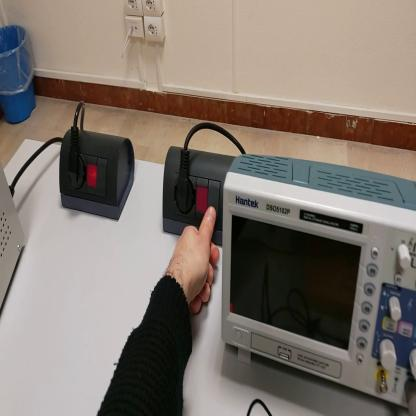hand: (168, 208, 219, 315)
oscilloscope: (218, 154, 416, 409)
power supply: (2, 161, 27, 319)
socket: (162, 145, 236, 246), (61, 131, 137, 226)
